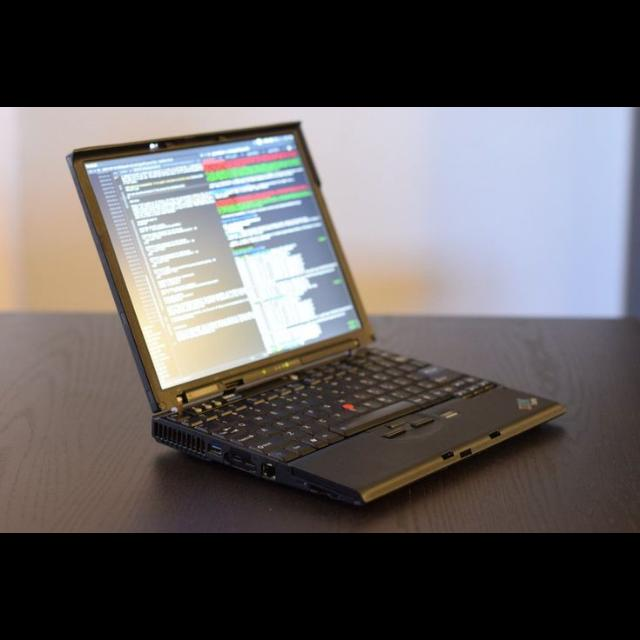laptop: (67, 124, 564, 505)
